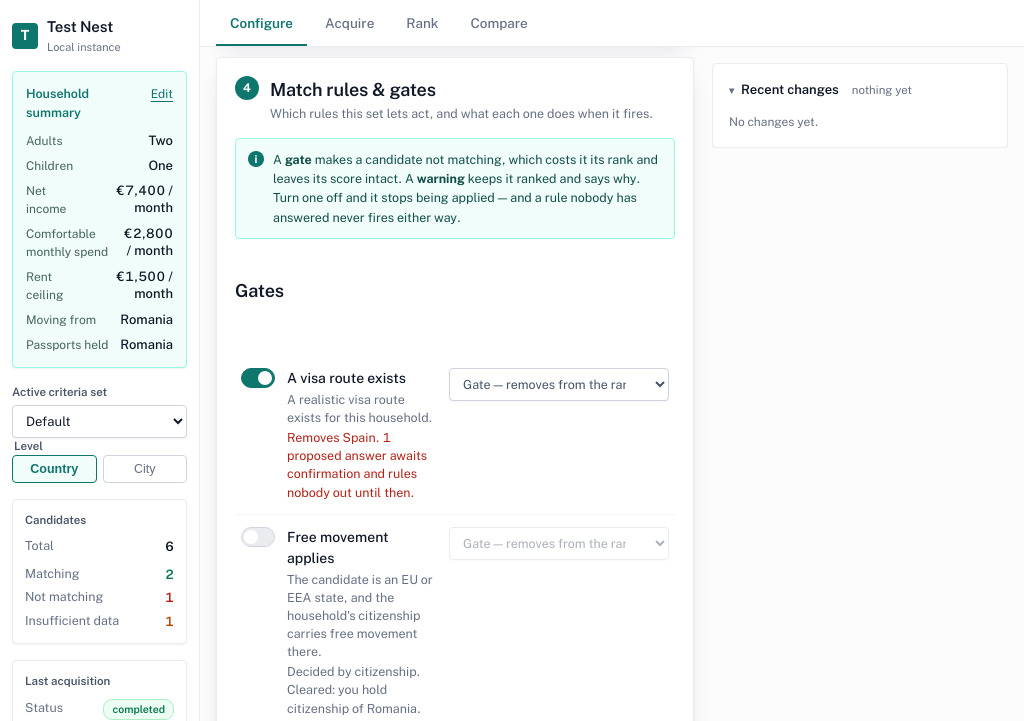
Test: a rule as a gate or a warning › leaves the outcome as it was when the server refuses it, and says why
The width and height of the screenshot is (1024, 721).
(page scrolled)
Select "Warning — keeps it, flags it" in the dropdown named "What A visa route exists does when it fires" at {"x": 559, "y": 384}, box x1=449 y1=368 x2=669 y2=401
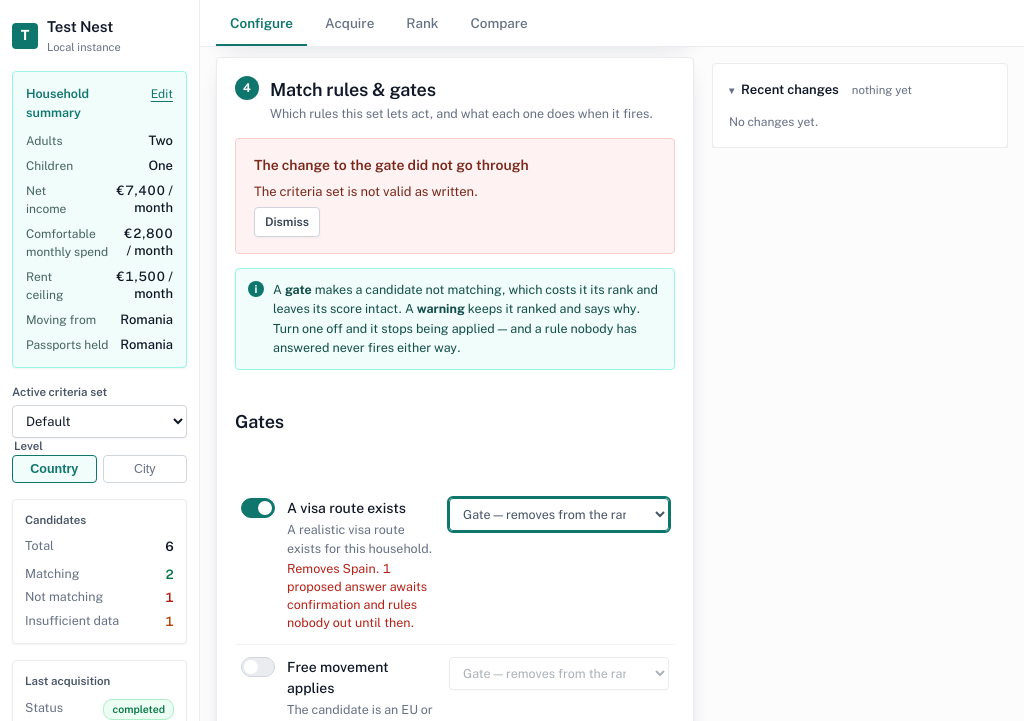
Now the text "The criteria set is not valid as written." is shown, box x1=254 y1=182 x2=478 y2=201
